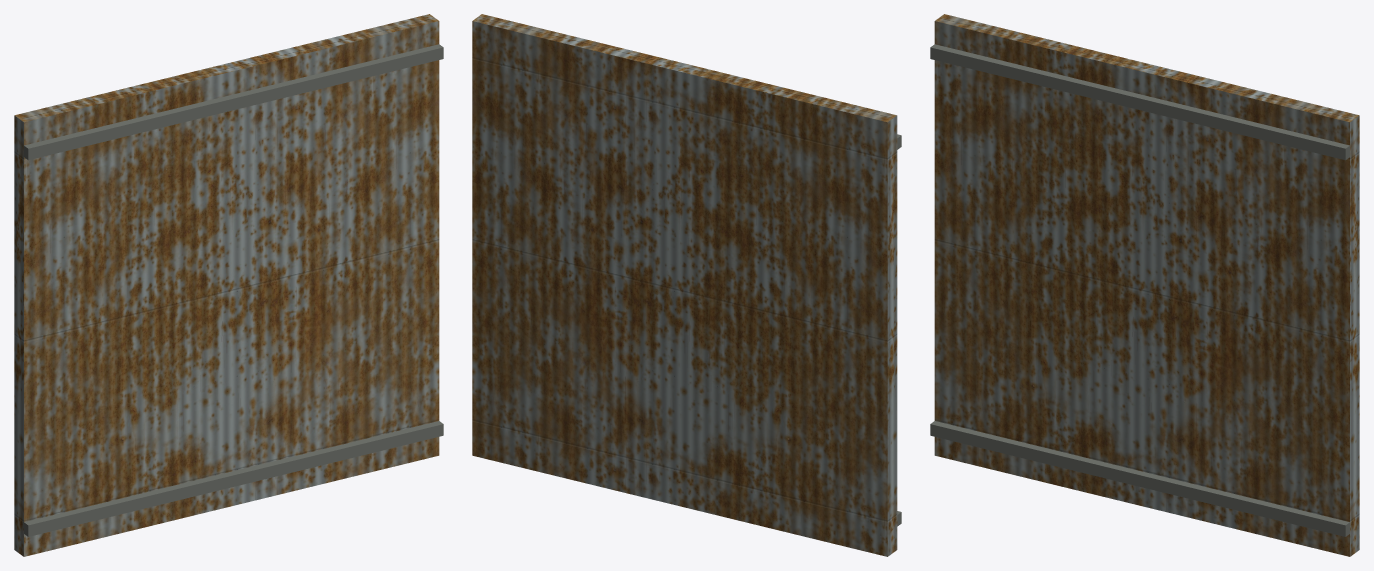
File: wall_panel.glb
3 renders of one model, left to right at view 1: azimuth 30°, elevation 25°; view 2: azimuth 150°, elevation 25°; view 3: azimuth 330°, elevation 25°, orthographic.
Parts seen in each view (by area): view 1: Corrugated_wall_panel_separate, Panel_brace_0.2, Panel_brace_2.8; view 2: Corrugated_wall_panel_separate; view 3: Corrugated_wall_panel_separate, Panel_brace_2.8, Panel_brace_0.2.
Boxes of the visible parts, left/top/right/bottom form: Corrugated_wall_panel_separate: left=14, top=14, right=439, bottom=556; Panel_brace_0.2: left=22, top=421, right=443, bottom=536; Panel_brace_2.8: left=23, top=44, right=443, bottom=160; Corrugated_wall_panel_separate: left=472, top=14, right=897, bottom=556; Corrugated_wall_panel_separate: left=934, top=14, right=1359, bottom=556; Panel_brace_2.8: left=930, top=44, right=1349, bottom=160; Panel_brace_0.2: left=930, top=421, right=1349, bottom=536.
Bounding box in the file's own units: 3 × 3 × 0.175.
2 materials, 1 textured.
